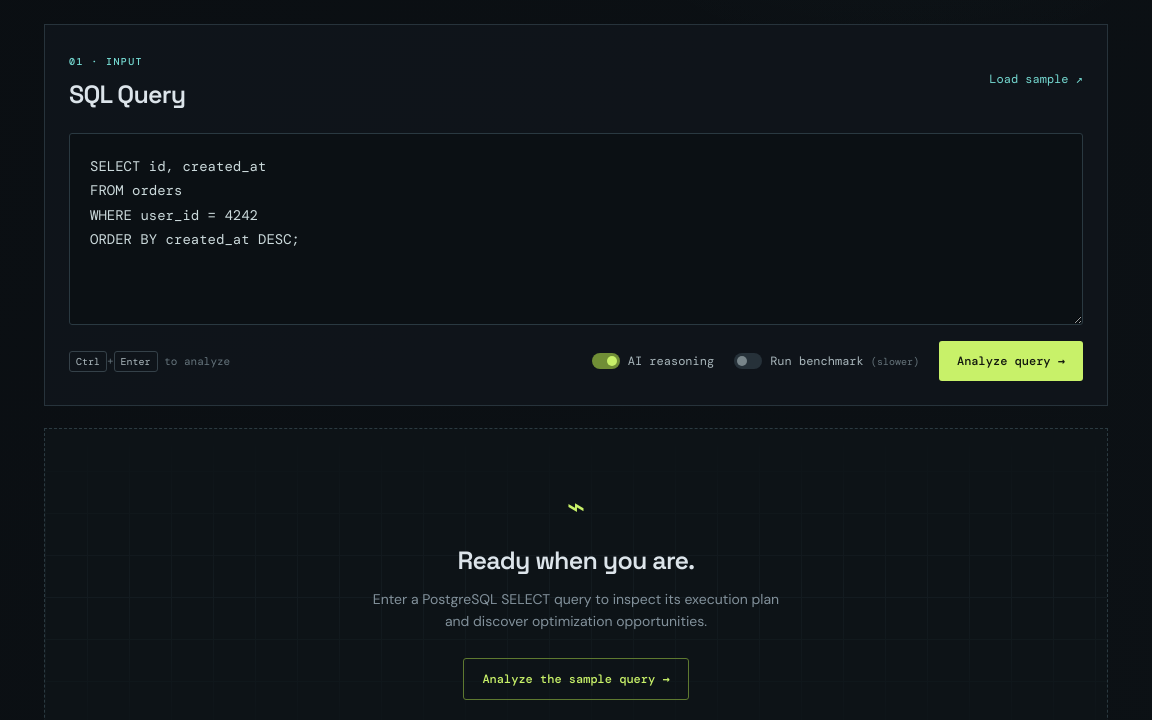
renders deterministic analysis as completed when AI is unavailable
The width and height of the screenshot is (1152, 720).
(page scrolled)
Click the button "Analyze query →" at (1011, 361), box top-left (939, 341), bottom-right (1083, 381)
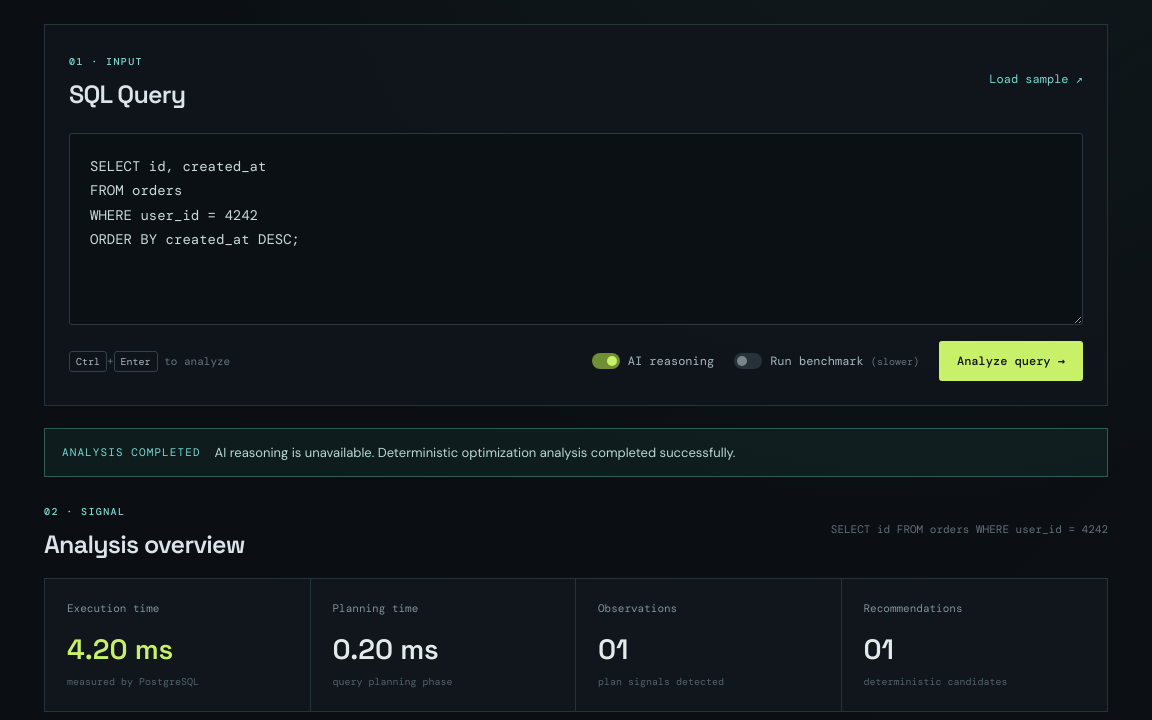
Check: the text "Analysis completed" is shown, box top-left (62, 445), bottom-right (201, 459)
Check: the text "AI reasoning is unavailable. Deterministic optimization analysis completed successfully." is shown, box top-left (215, 444), bottom-right (735, 461)
Check: the heading "Analysis overview" is shown, box top-left (44, 528), bottom-right (245, 560)
